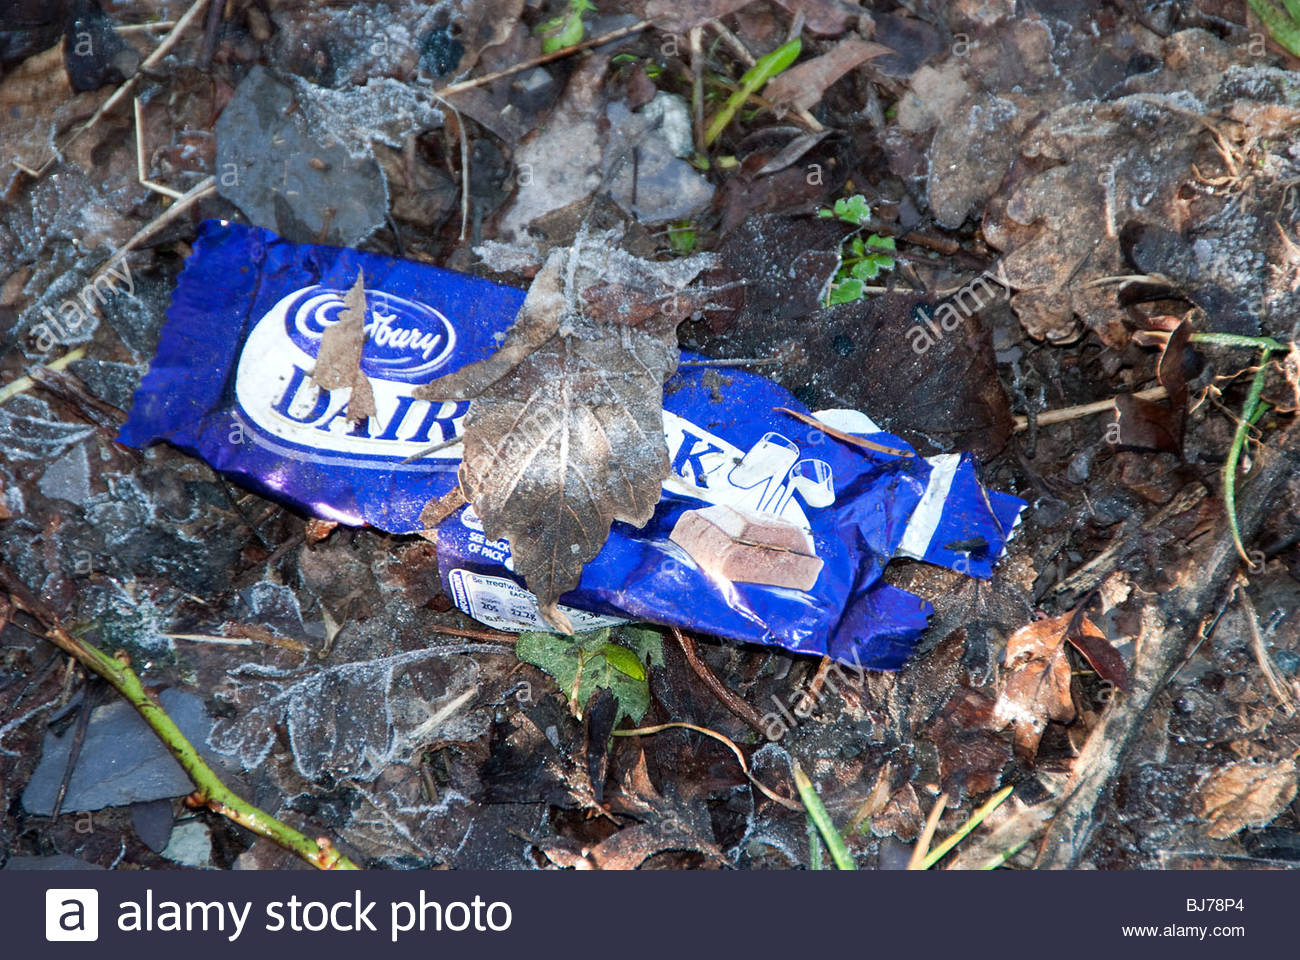wrapper: (111, 224, 1032, 685)
